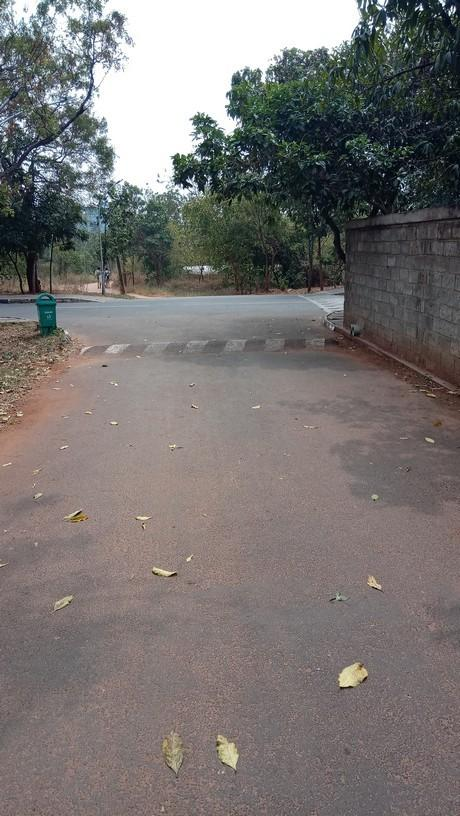speed-bump: (79, 335, 349, 359)
